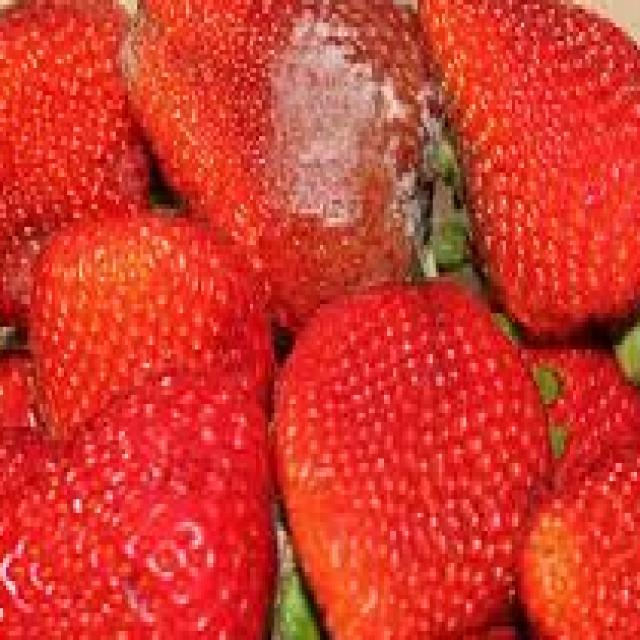inorganic: (5, 4, 631, 632)
